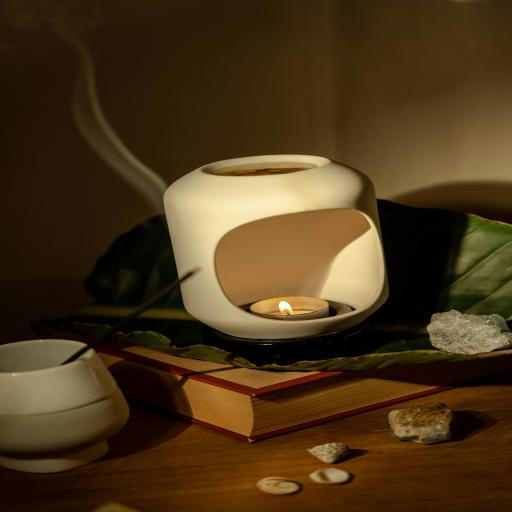candlelight: (256, 292, 318, 324)
